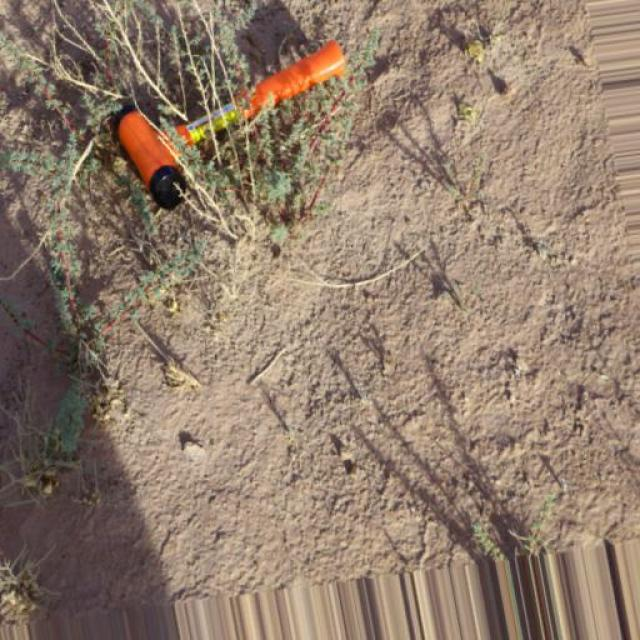mallet: (106, 36, 349, 210)
